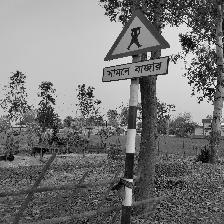Market-in-front: (102, 9, 171, 83)
